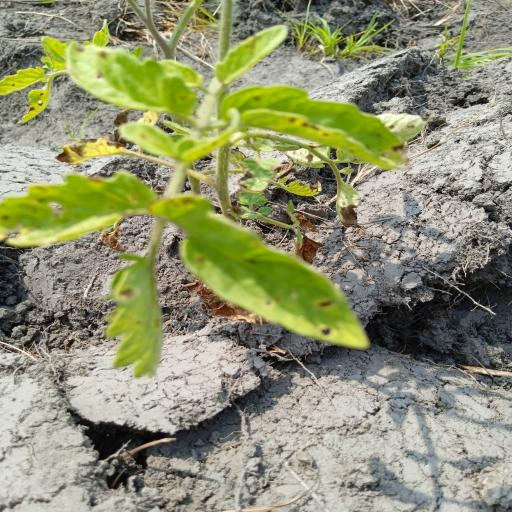Tomato_Brown_Spots: (163, 200, 383, 358)
